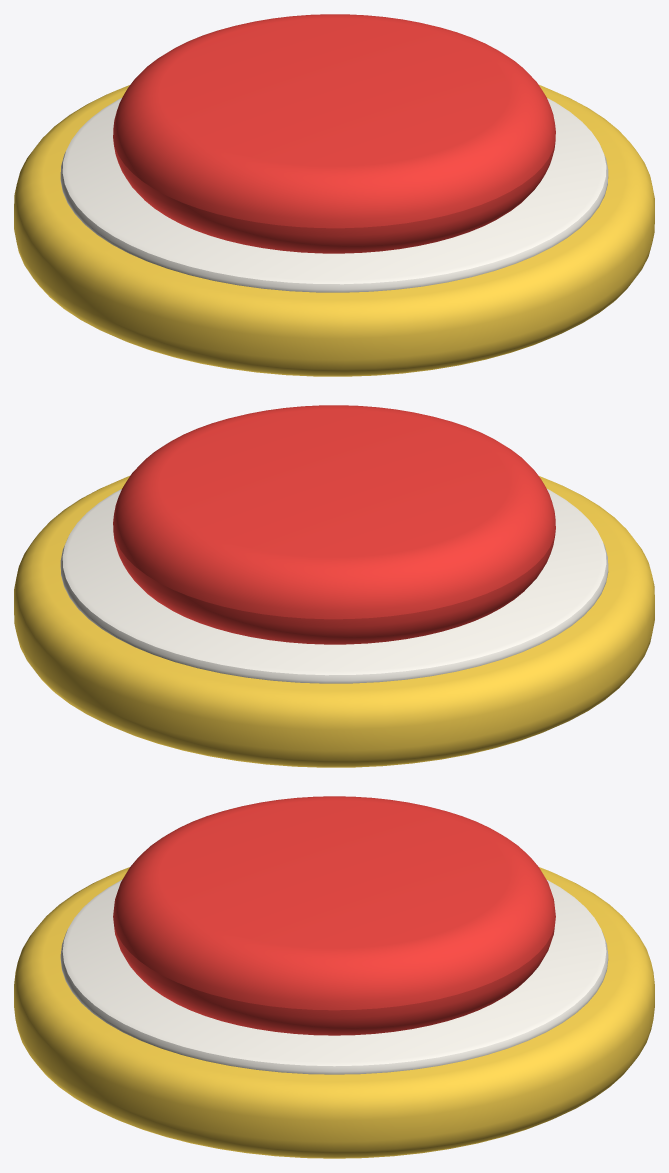
The model's file is SM_PressureButton.fbx.
3 views of the same model, one above another, from view 1: azimuth 30°, elevation 25°; view 2: azimuth 150°, elevation 25°; view 3: azimuth 270°, elevation 25° (orthographic).
Visible parts, largest first — view 1: SM_PressureButton_Cap, SM_PressureButton_Base, SM_PressureButton_Light; view 2: SM_PressureButton_Cap, SM_PressureButton_Base, SM_PressureButton_Light; view 3: SM_PressureButton_Cap, SM_PressureButton_Base, SM_PressureButton_Light.
Boxes of the visible parts, x1,y1,x2,y2 form: SM_PressureButton_Cap: (113, 14, 555, 253); SM_PressureButton_Base: (14, 85, 654, 376); SM_PressureButton_Light: (60, 98, 608, 292); SM_PressureButton_Cap: (113, 405, 555, 644); SM_PressureButton_Base: (14, 476, 654, 767); SM_PressureButton_Light: (60, 489, 608, 683); SM_PressureButton_Cap: (113, 796, 555, 1035); SM_PressureButton_Base: (14, 867, 654, 1158); SM_PressureButton_Light: (60, 879, 608, 1074).
Size of the model in its own units: 1.1 by 0.3 by 1.1.
